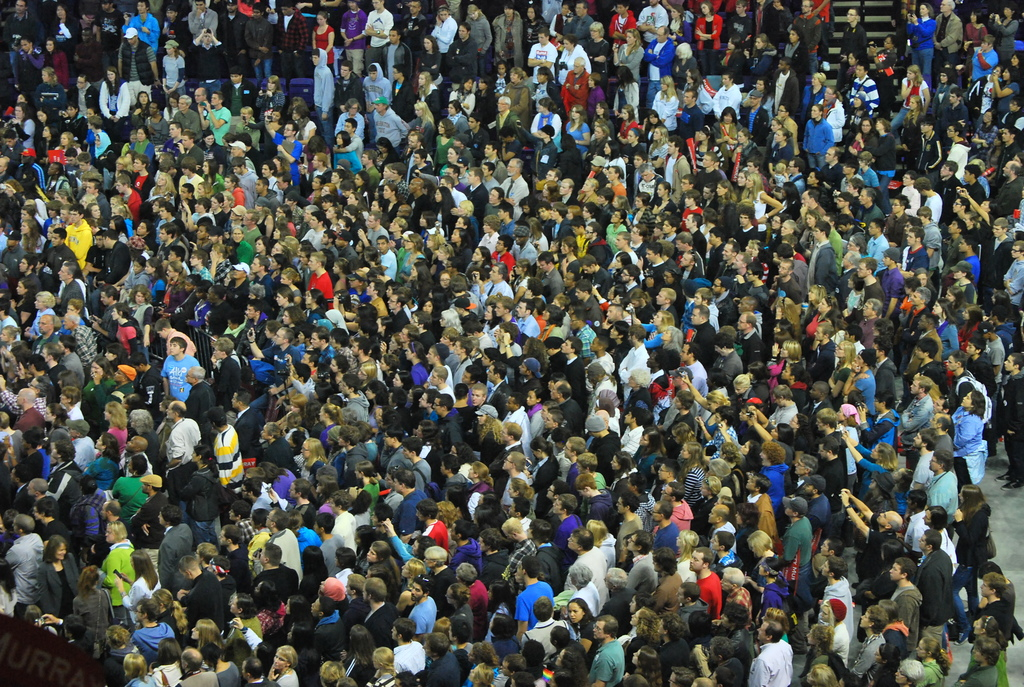Person: (0, 0, 1024, 687)
